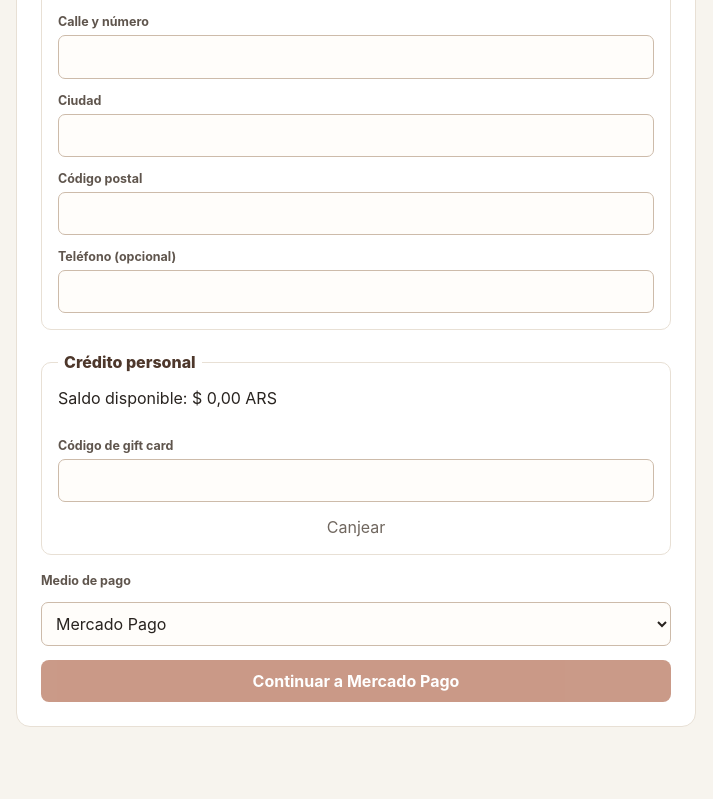
Test: purchase checkout and orders › does not lock redeem when identity fails before an attempt exists
(page scrolled)
expect the text "Saldo disponible: $ 0,00 ARS" is shown: met, box [58,388,277,408]
Type "CODE" into the password field labelled "Código de gift card".
click(356, 481); type("CODE")  # box [58,459,654,502]
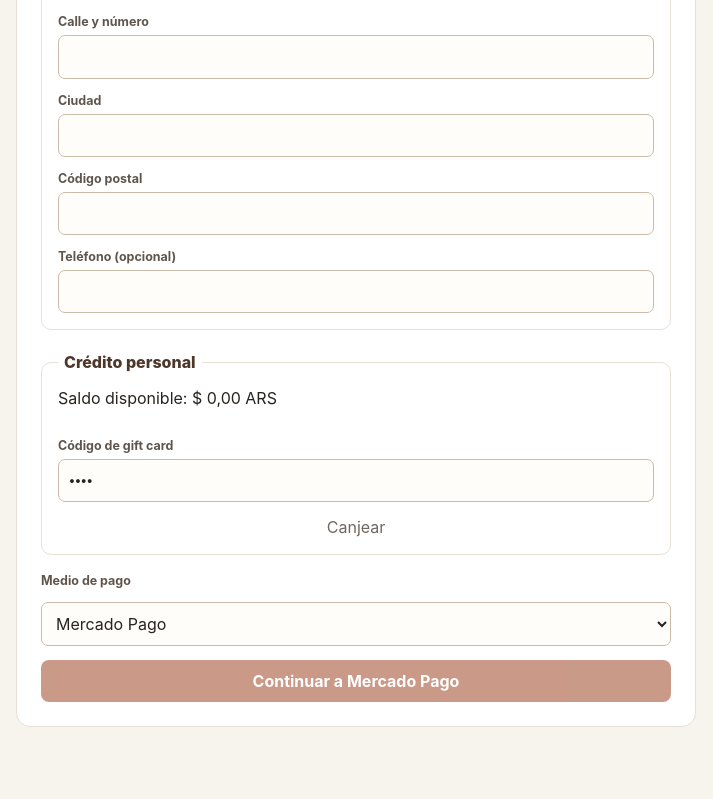
Click the button "Canjear".
click(356, 527)  # box [58,516,654,538]
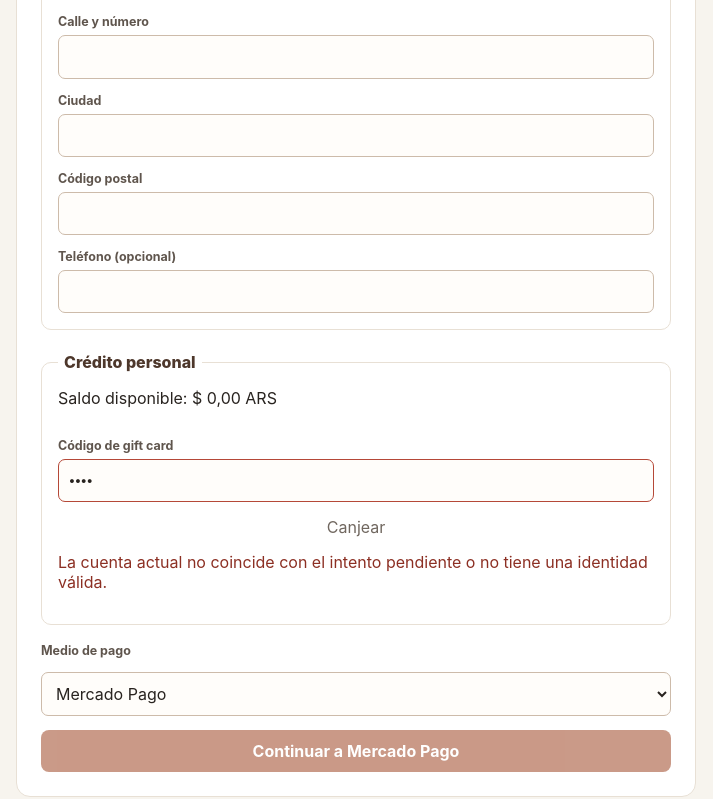
expect the dropdown labelled "Medio de pago" is enabled: met, box [41,672,671,716]
expect the message shows "identidad válida": met, box [58,552,648,592]
